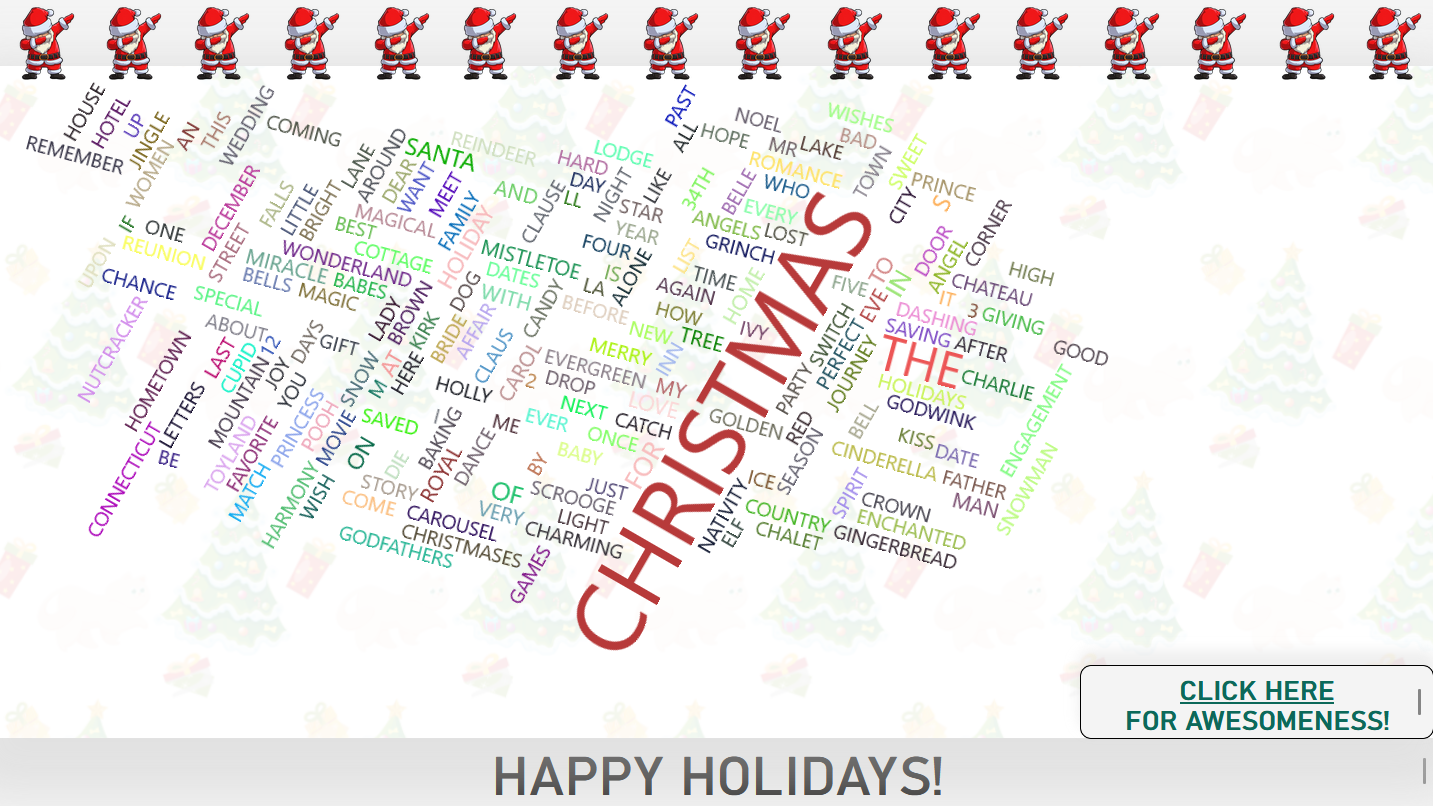

Layout of this report page (visuals, bound fields, positions):
{"tool":"powerbi","page":{"name":"wordcloud","canvas":[1280,720],"ordinal":2},"visuals":[{"type":"textbox","box":[0,659.5,1280,60],"z":0},{"type":"textbox","box":[0,0,1280,60],"z":1000},{"type":"textbox","box":[0,660,1280,60],"z":2000},{"type":"WordCloud1447959067750","title":"HAPPY CHRISTMAS!","fields":{"Category":["new_christmas_movie-wordcloud.Value"],"Values":["Sum(new_christmas_movie-wordcloud.Word_Count)"]},"box":[0,60,1280,600],"z":3000},{"type":"image","box":[0,0,78,78],"z":4000},{"type":"image","box":[78,0,78,78],"z":5000},{"type":"image","box":[156,0,78,78],"z":6000},{"type":"image","box":[236,0,78,78],"z":7000},{"type":"image","box":[317,0,78,78],"z":8000},{"type":"image","box":[394,0,78,78],"z":9000},{"type":"image","box":[476,0,78,78],"z":10000},{"type":"image","box":[557,0,78,78],"z":11000},{"type":"image","box":[639,0,78,78],"z":12000},{"type":"image","box":[721,0,78,78],"z":13000},{"type":"image","box":[808,0,78,78],"z":14000},{"type":"image","box":[887,0,78,78],"z":15000},{"type":"image","box":[968,0,78,78],"z":16000},{"type":"image","box":[1046,0,78,78],"z":17000},{"type":"image","box":[1124,0,78,78],"z":18000},{"type":"image","box":[1202,0,78,78],"z":19000},{"type":"textbox","box":[964,594,316,66],"z":20000}]}

Visuals, with their boxes in screenshot pixels (x1, y1, x2, y2), scaled from the page's 1280x720 canvas onto the 1433x806 screenshot:
textbox: (left=0, top=738, right=1432, bottom=805)
textbox: (left=0, top=0, right=1432, bottom=67)
textbox: (left=0, top=739, right=1432, bottom=805)
"HAPPY CHRISTMAS!" WordCloud1447959067750: (left=0, top=67, right=1432, bottom=739)
image: (left=0, top=0, right=87, bottom=87)
image: (left=87, top=0, right=175, bottom=87)
image: (left=175, top=0, right=262, bottom=87)
image: (left=264, top=0, right=352, bottom=87)
image: (left=355, top=0, right=442, bottom=87)
image: (left=441, top=0, right=528, bottom=87)
image: (left=533, top=0, right=620, bottom=87)
image: (left=624, top=0, right=711, bottom=87)
image: (left=715, top=0, right=803, bottom=87)
image: (left=807, top=0, right=895, bottom=87)
image: (left=905, top=0, right=992, bottom=87)
image: (left=993, top=0, right=1080, bottom=87)
image: (left=1084, top=0, right=1171, bottom=87)
image: (left=1171, top=0, right=1258, bottom=87)
image: (left=1258, top=0, right=1346, bottom=87)
image: (left=1346, top=0, right=1432, bottom=87)
textbox: (left=1079, top=665, right=1432, bottom=739)
